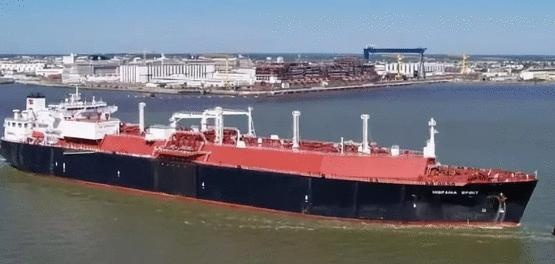Cargoship: (1, 87, 540, 232)
